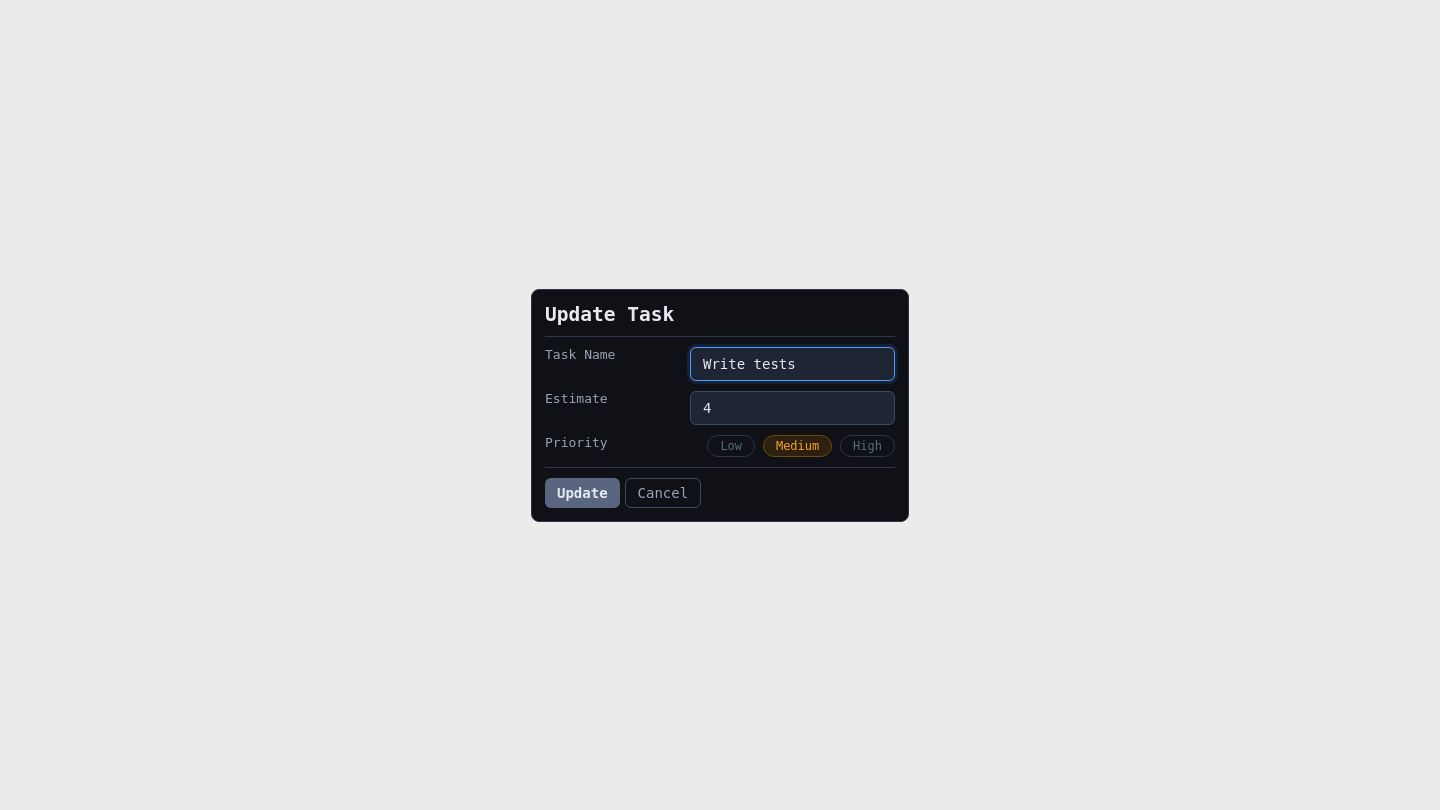
Test: EditTaskModal › the Update button › disables again when the name is changed back
The width and height of the screenshot is (1440, 810).
Step 1. Replace the text in the field with placeholder "Task Name" with "Something else" → [792, 364], box [690,346,895,380]
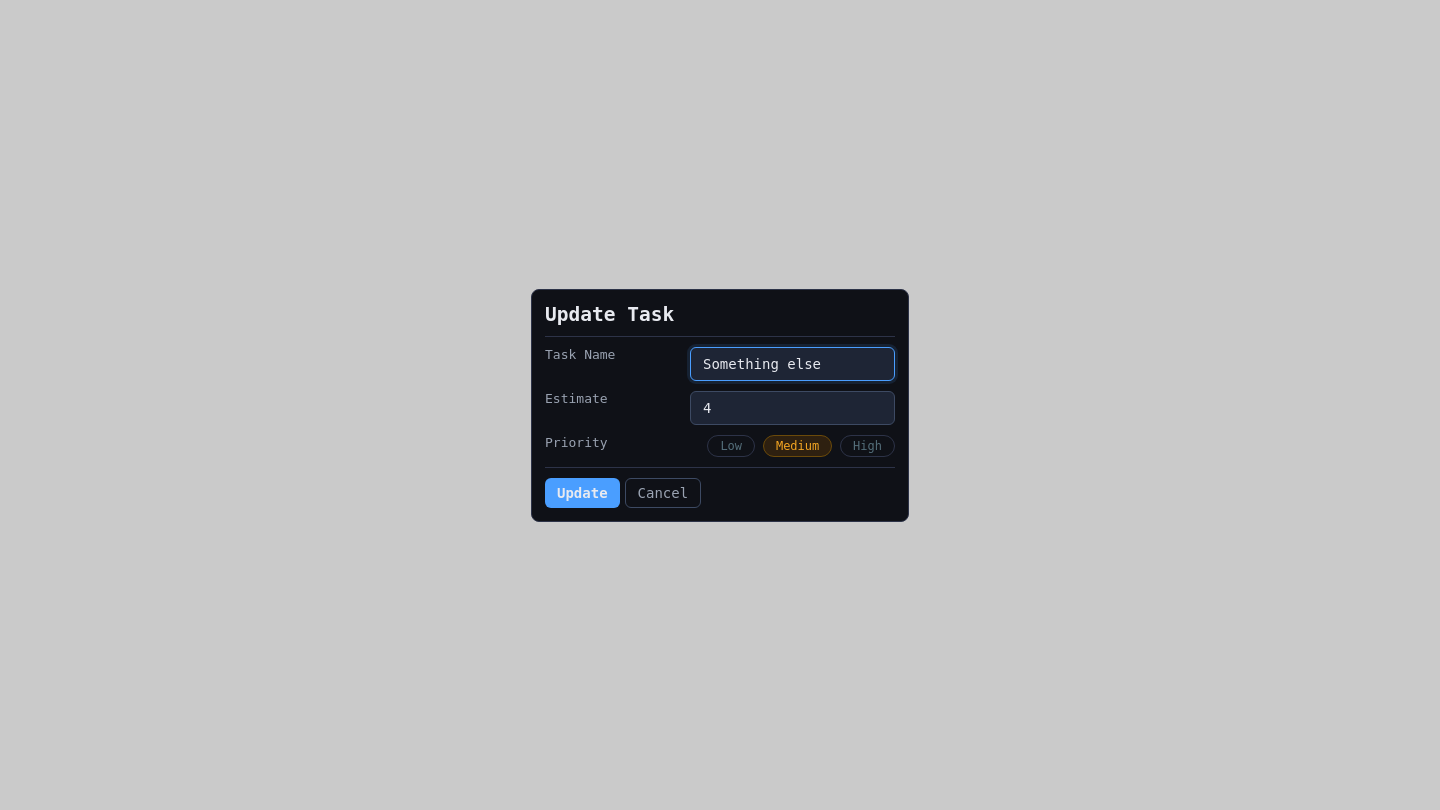
expect the button "Update" is enabled: met, box [545,478,620,508]
Step 2. Replace the text in the field with placeholder "Task Name" with "Write tests" → [792, 364], box [690,346,895,380]
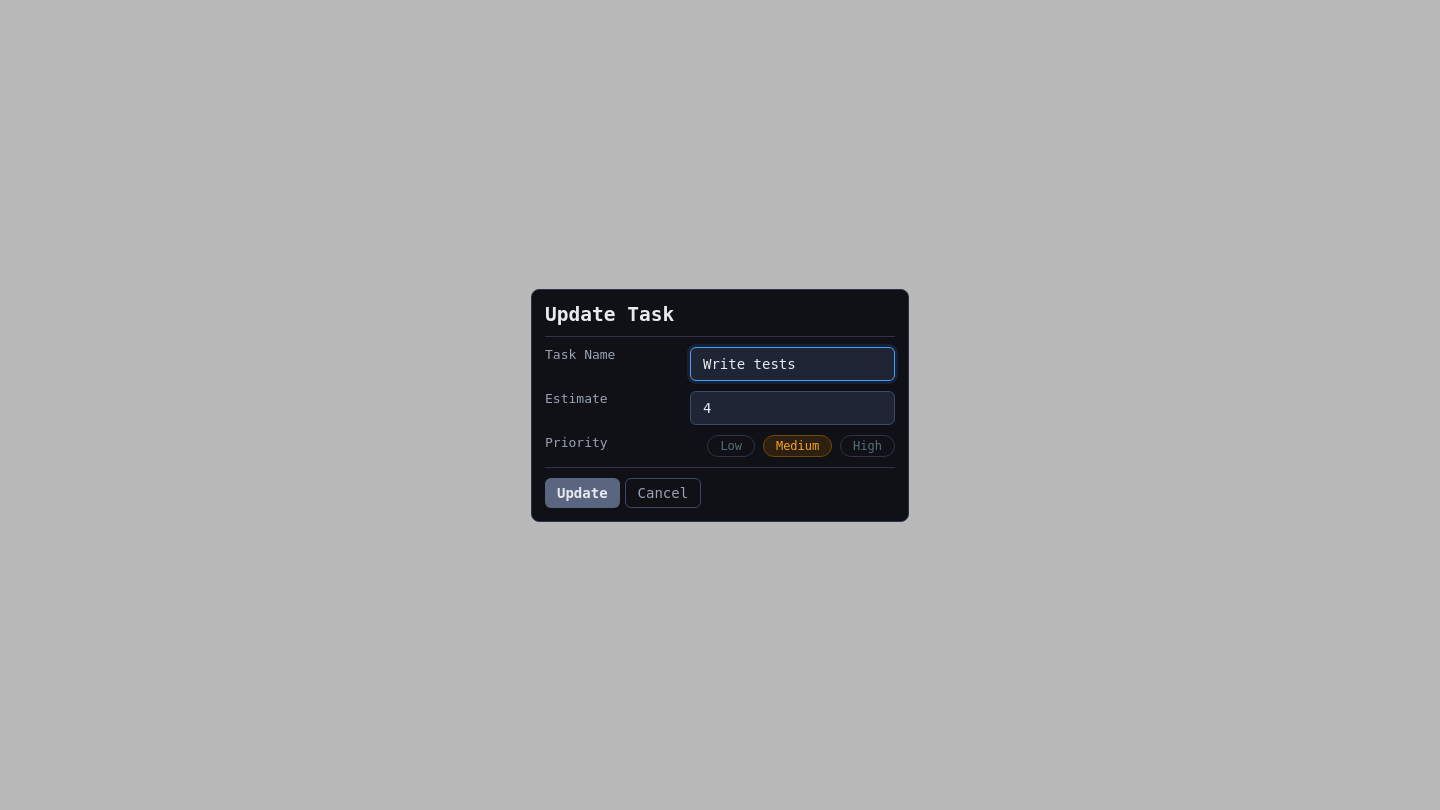
expect the button "Update" is disabled: met, box [545,478,620,508]
